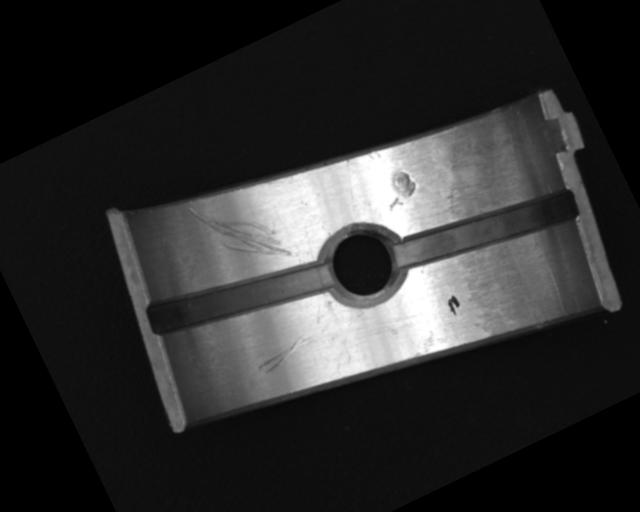blot: (444, 292, 464, 317)
bruise: (376, 165, 422, 211)
gap: (144, 229, 337, 365), (391, 166, 583, 295)
hole: (314, 214, 414, 316)
nick: (185, 176, 293, 288), (254, 333, 316, 376)
